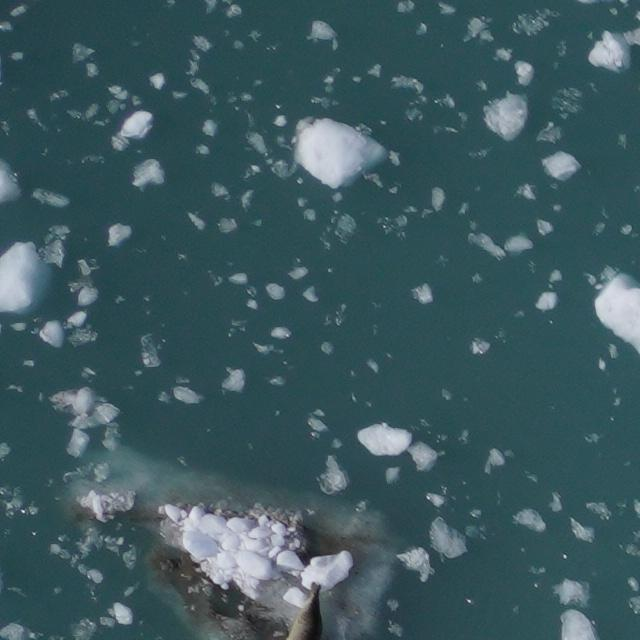seal: (289, 584, 322, 639)
